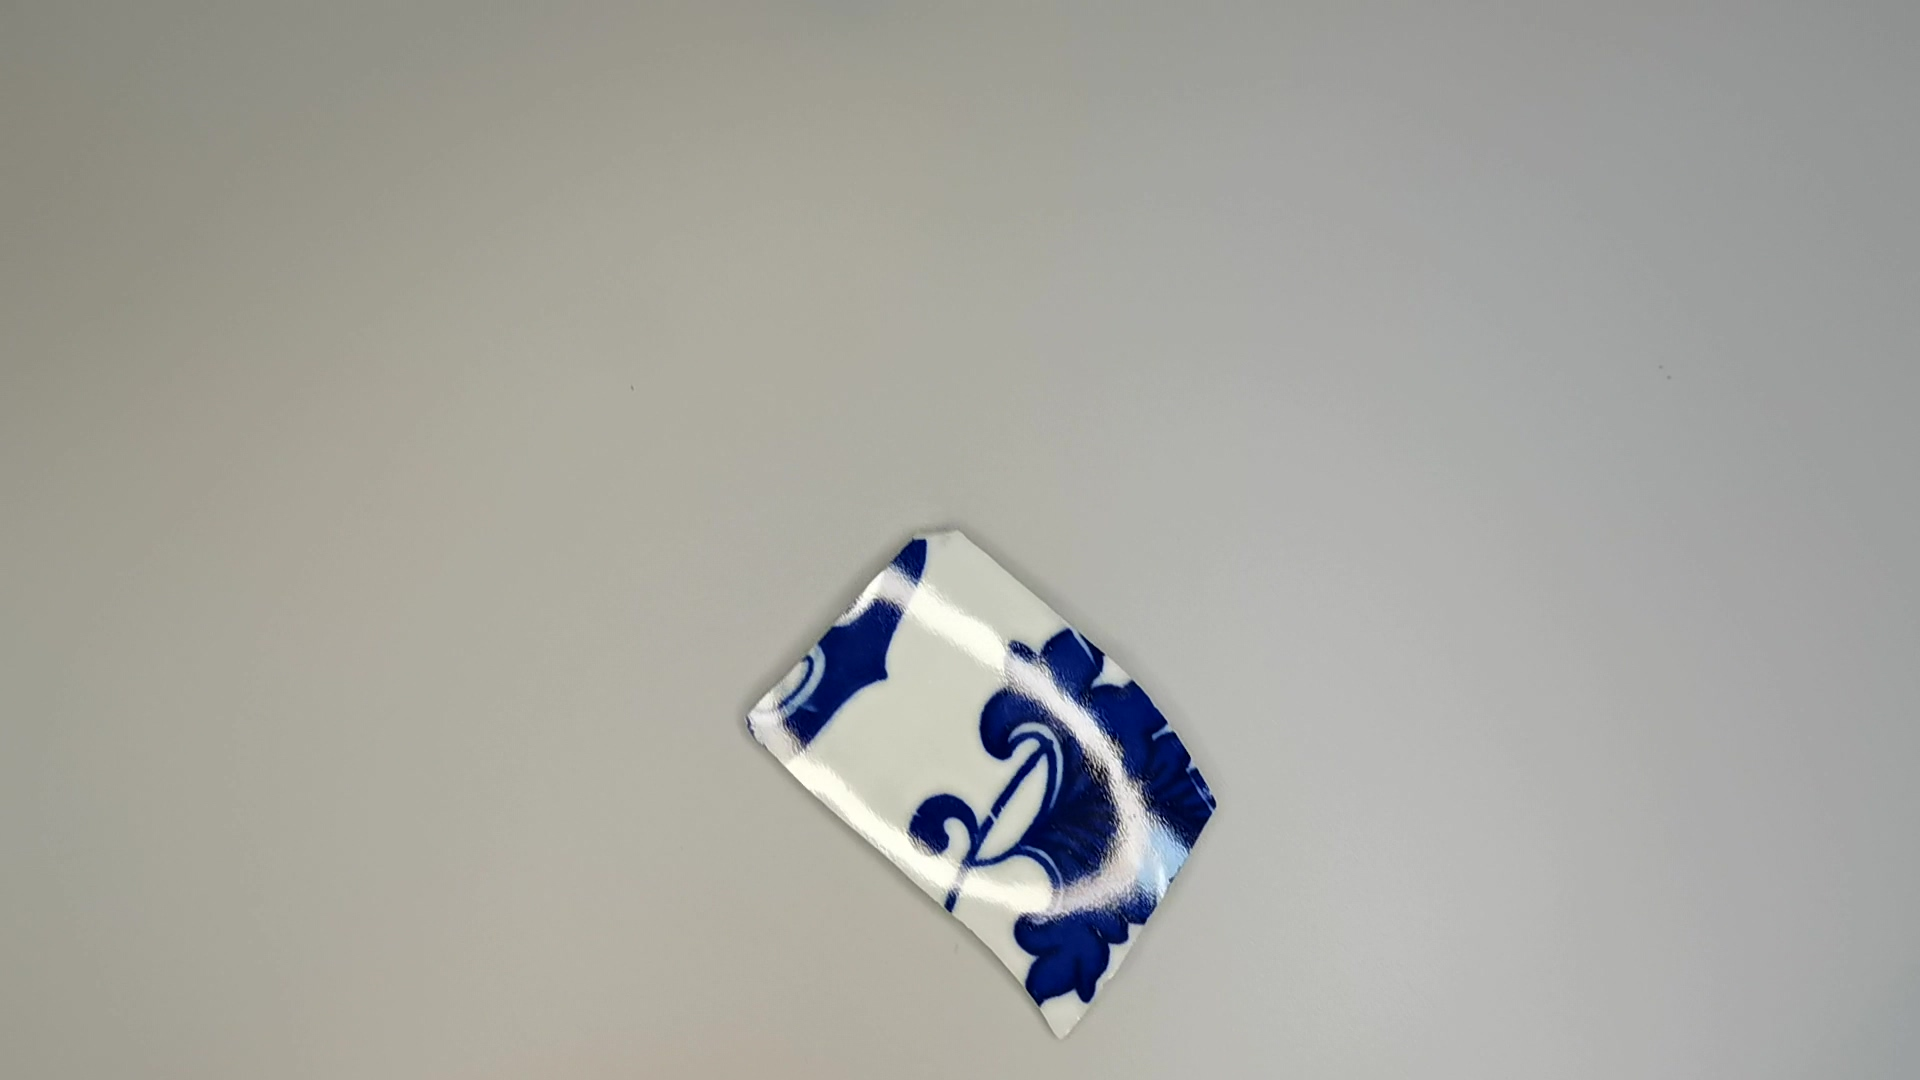ceramic: (744, 520, 1226, 1046)
